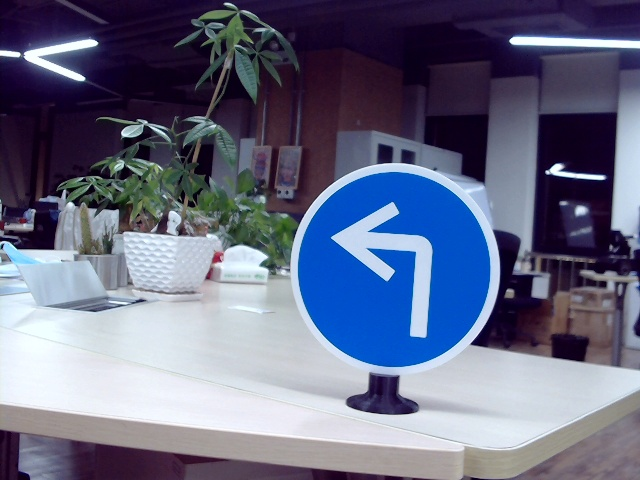turn_left: (330, 194, 457, 339)
